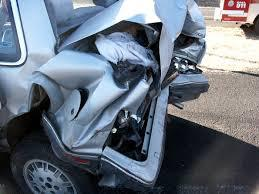quaterpanel-dent: (29, 67, 103, 151)
